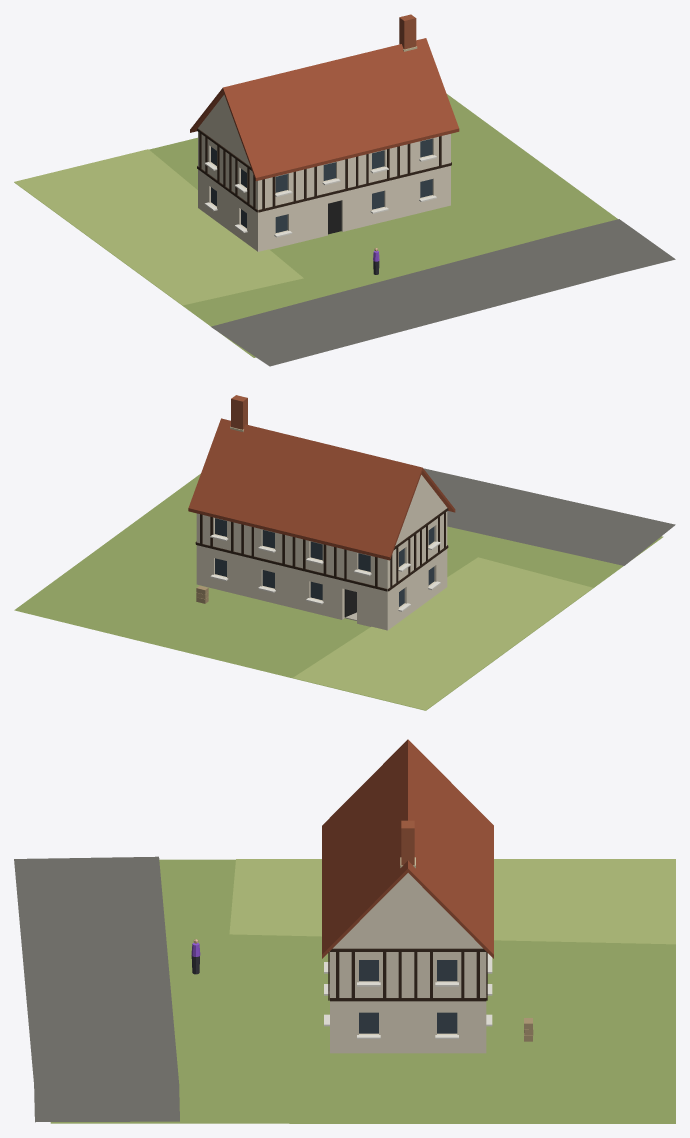
Rendered from the_plough.glb.
The picture shows the model from 3 angles, top to bottom: view 1: azimuth 30°, elevation 25°; view 2: azimuth 150°, elevation 25°; view 3: azimuth 270°, elevation 25°; orthographic projection. The views are drawn at different scales.
Parts seen in each view (by area): view 1: ground, ground_lanes, cut_roof_the_plough, ground_areas, the_plough_shell, the_plough_walls; view 2: ground, cut_roof_the_plough, ground_areas, the_plough_shell, ground_lanes, the_plough_walls; view 3: ground, ground_lanes, cut_roof_the_plough, ground_areas, the_plough_shell, the_plough_walls.
Boxes of the visible parts, x1,y1,x2,y2 form: ground: (14,93,617,357); ground_lanes: (211,219,675,366); cut_roof_the_plough: (190,14,459,181); ground_areas: (14,149,303,305); the_plough_shell: (198,95,450,251); the_plough_walls: (197,128,451,237); ground: (14,473,663,710); cut_roof_the_plough: (188,395,455,560); ground_areas: (293,557,592,710); the_plough_shell: (196,475,447,630); ground_lanes: (423,468,675,565); the_plough_walls: (195,508,448,617); ground: (50,859,675,1123); ground_lanes: (14,856,179,1122); cut_roof_the_plough: (322,739,493,958); ground_areas: (229,859,675,944); the_plough_shell: (330,873,486,1053); the_plough_walls: (324,948,492,1038).
Bounding box in the file's own units: 28.15 × 10.89 × 29.65.
